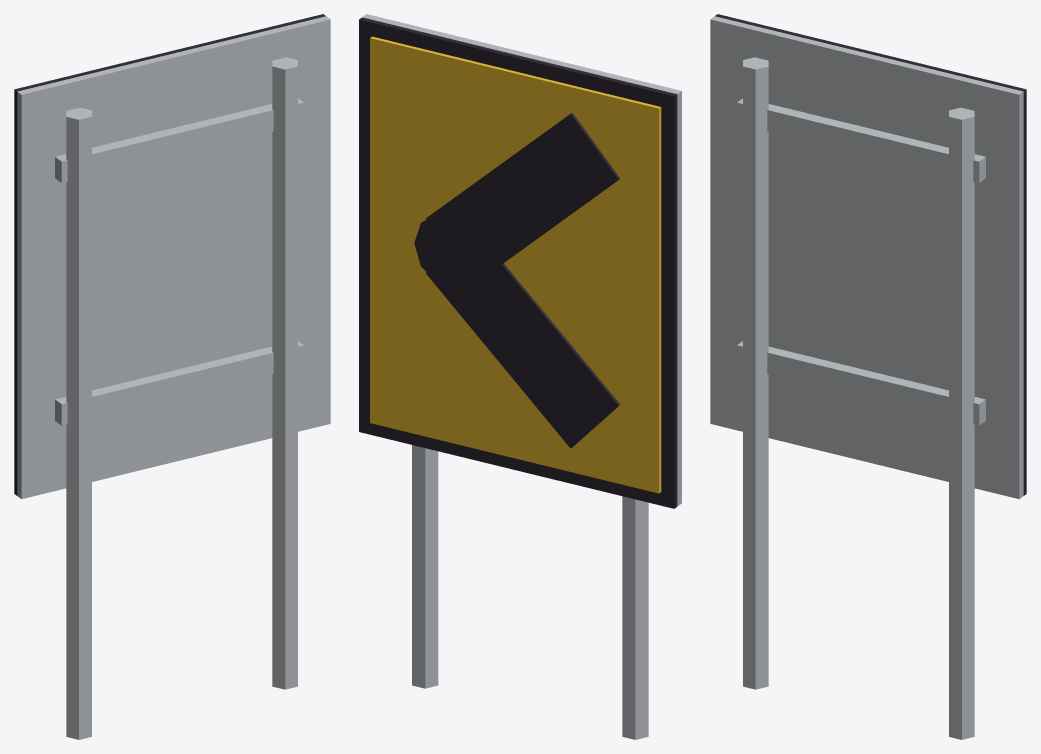
The model's file is corner_chevron_left.glb.
3 views of the same model, side by side, from view 1: azimuth 30°, elevation 25°; view 2: azimuth 150°, elevation 25°; view 3: azimuth 330°, elevation 25° (orthographic).
Parts seen in each view (by area): view 1: corner_chevron_left; view 2: corner_chevron_left; view 3: corner_chevron_left.
Boxes of the visible parts, left/top/right/bottom form: corner_chevron_left: left=14, top=14, right=330, bottom=739; corner_chevron_left: left=359, top=14, right=681, bottom=739; corner_chevron_left: left=710, top=14, right=1026, bottom=739.
Size of the model in its own units: 1.2 by 2.4 by 0.1593.
